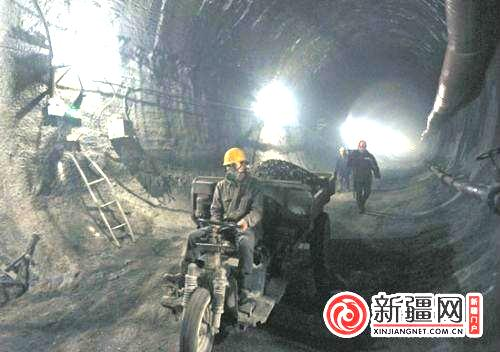helmet: (222, 146, 248, 179), (358, 140, 367, 154), (338, 146, 347, 158)
